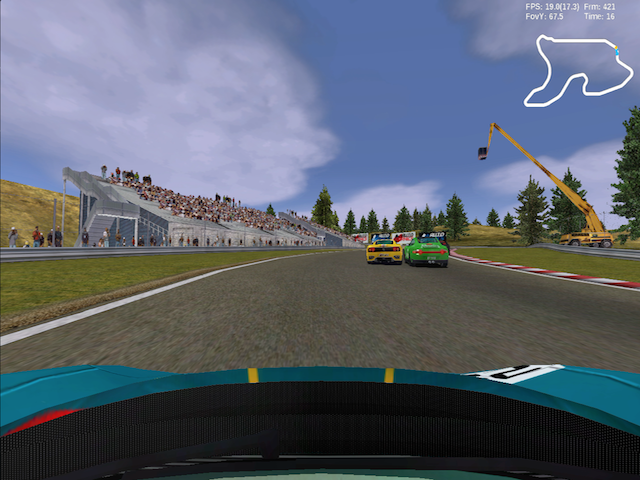Boxer96: (403, 237, 449, 269)
Cavallo360: (365, 238, 404, 265)
